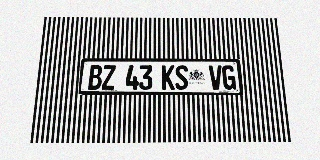3: (139, 65, 152, 90)
4: (125, 65, 139, 90)
B: (88, 65, 102, 90)
G: (222, 65, 236, 90)
K: (162, 65, 175, 90)
S: (175, 65, 188, 90)
V: (209, 65, 223, 90)
Z: (102, 65, 116, 90)
